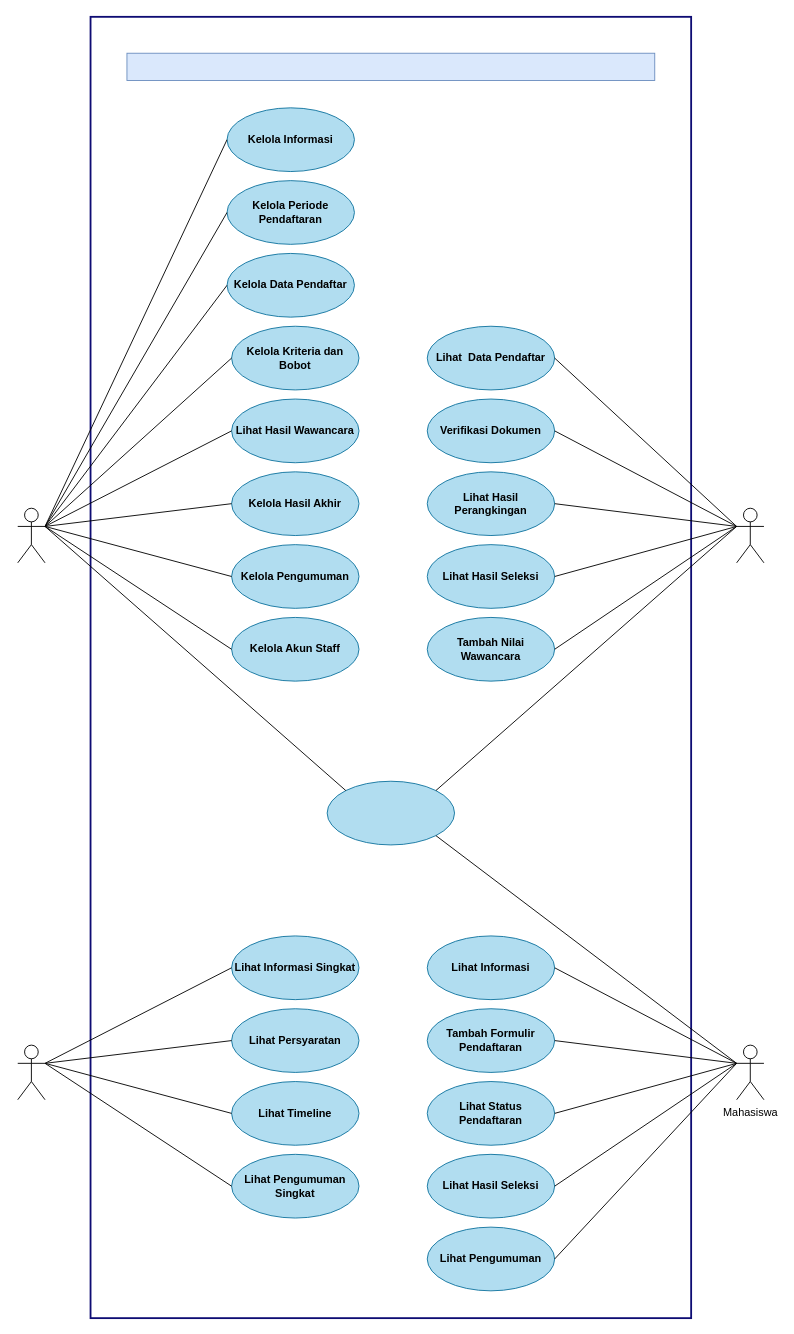
Some shapes in this 794 by 1334 pixel diagram are drawn without their labels. Each missing label, with the box of its shape:
Admin: (17, 507, 45, 563)
Login: (326, 780, 455, 845)
Sistem Informasi Pendaftaran KKN Internasional: (126, 52, 655, 81)
Staff: (736, 507, 764, 563)
Tamu: (17, 1044, 45, 1100)
